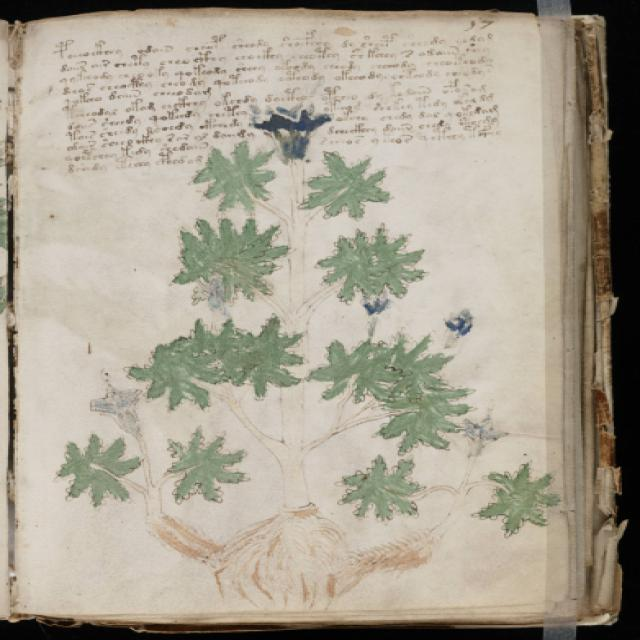plant: (50, 103, 565, 611)
